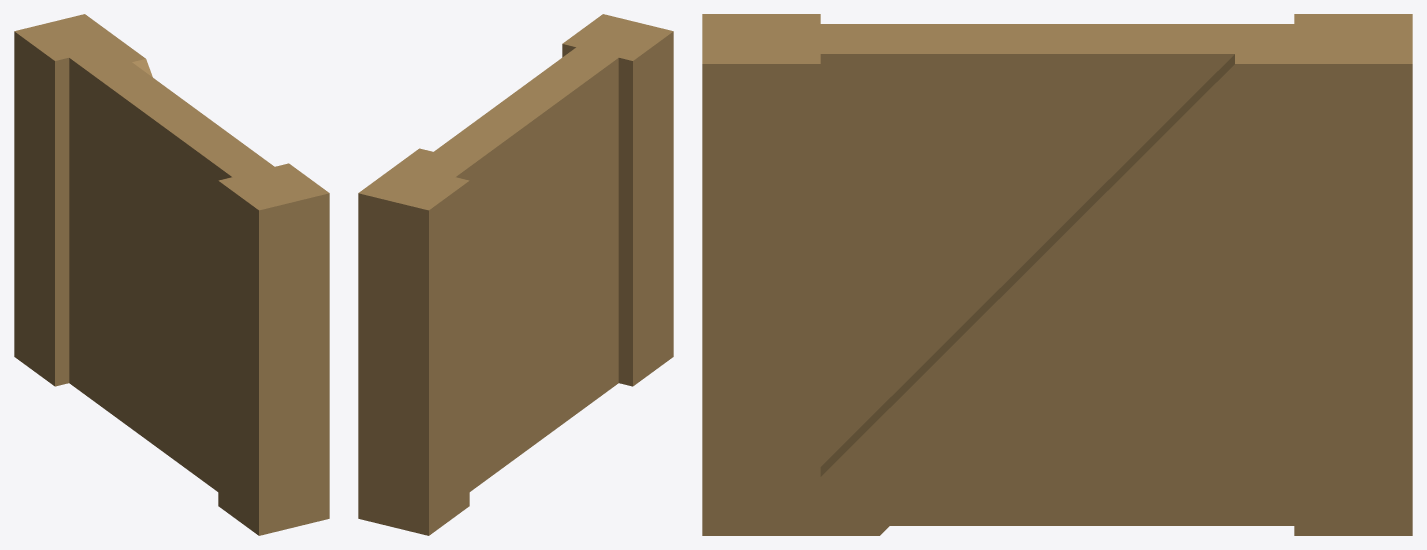
The model's file is wood_wall_cross_01.glb.
3 renders of one model, left to right at view 1: azimuth 30°, elevation 25°; view 2: azimuth 150°, elevation 25°; view 3: azimuth 270°, elevation 25°, orthographic. The views are drawn at different scales.
Visible parts, largest first — view 1: Mesh1 Wood_Wall_Cross Model; view 2: Mesh1 Wood_Wall_Cross Model; view 3: Mesh1 Wood_Wall_Cross Model.
Boxes of the visible parts, bbox=[...] form: Mesh1 Wood_Wall_Cross Model: bbox=[14, 14, 329, 535]; Mesh1 Wood_Wall_Cross Model: bbox=[358, 14, 673, 535]; Mesh1 Wood_Wall_Cross Model: bbox=[702, 14, 1412, 535].
Bounding box in the file's own units: 0.5 × 2.2 × 3.
